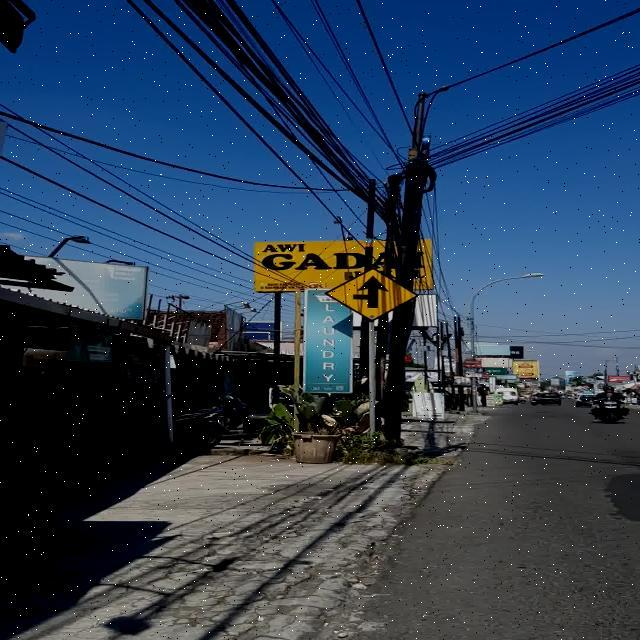Persimpangan 3 Prioritas Kiri: (324, 268, 419, 322)
